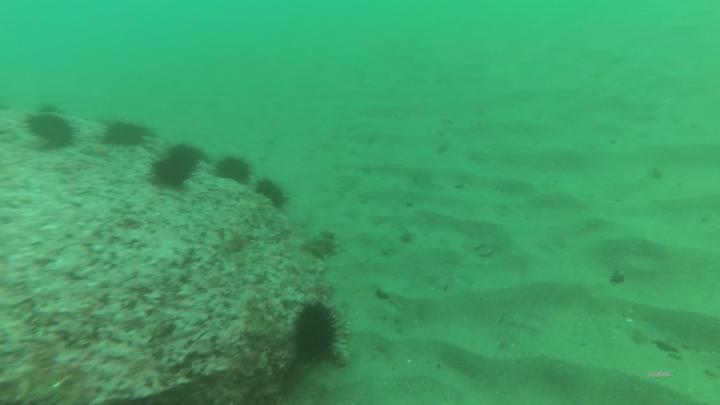echinus: (296, 307, 333, 358), (28, 114, 72, 147), (105, 120, 144, 147), (214, 156, 249, 183), (154, 161, 190, 187), (254, 180, 287, 204), (169, 143, 199, 164)
holothurian: (331, 312, 353, 367)
